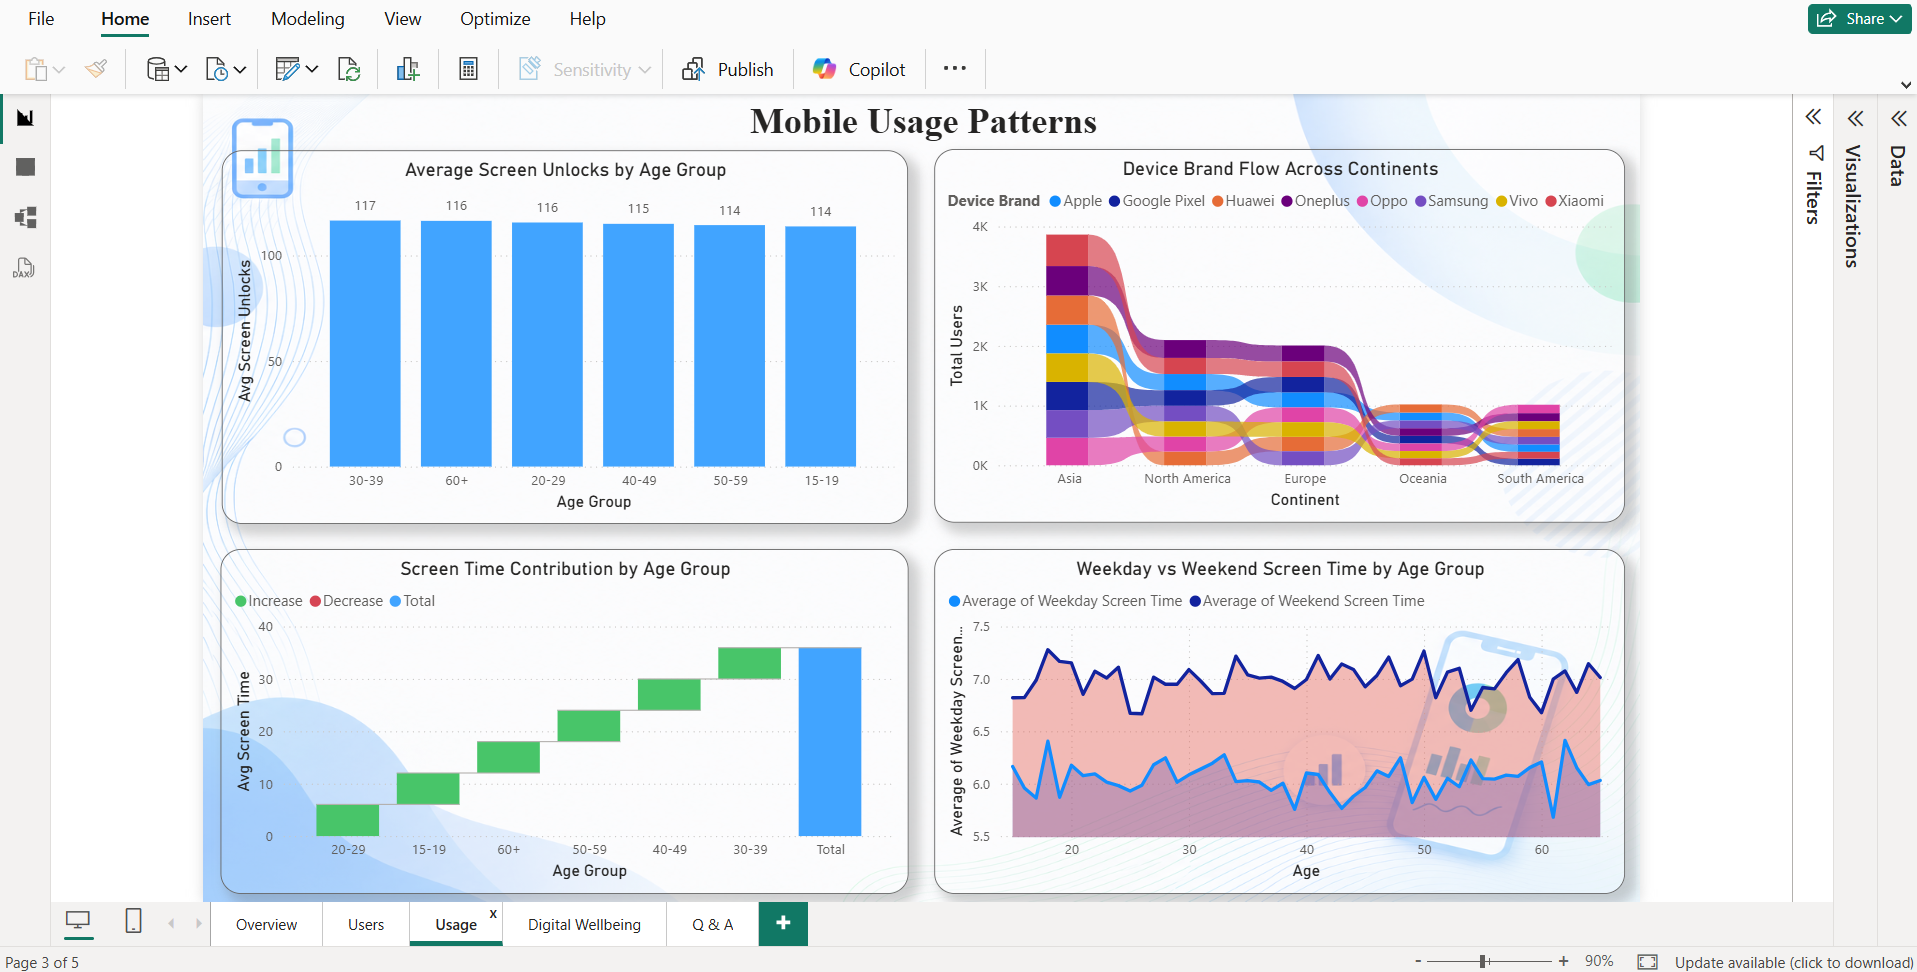

The dashboard page shown, as its layout file describes it:
{"tool":"powerbi","page":{"name":"Usage ","canvas":[1280,720],"ordinal":2},"visuals":[{"type":"clusteredColumnChart","title":"Average Screen Unlocks by Age Group","fields":{"Category":["Mobile_ScreenTime_Dataset.Age Group"],"Y":["Mobile_ScreenTime_Dataset.Avg Screen Unlocks"]},"box":[16.2,50,611.2,332.5],"z":0},{"type":"waterfallChart","title":"Screen Time Contribution by Age Group","fields":{"Category":["Mobile_ScreenTime_Dataset.Age Group"],"Y":["Mobile_ScreenTime_Dataset.Avg Screen Time"]},"box":[15.1,404.7,612.8,307],"z":1000},{"type":"ribbonChart","title":"Device Brand Flow Across Continents","fields":{"Category":["Mobile_ScreenTime_Dataset.Continent"],"Series":["Mobile_ScreenTime_Dataset.Device Brand"],"Y":["Mobile_ScreenTime_Dataset.Total Users"]},"box":[651.5,49.5,615.3,333],"z":2000},{"type":"areaChart","title":"Weekday vs Weekend Screen Time by Age Group","fields":{"Category":["Mobile_ScreenTime_Dataset.Age"],"Y":["Avg(Mobile_ScreenTime_Dataset.Weekday Screen Time)","Avg(Mobile_ScreenTime_Dataset.Weekend Screen Time)"]},"box":[651.2,404.7,615.1,307],"z":3000},{"type":"textbox","box":[16.2,0,1250,50],"z":4000}]}

Visuals, with their boxes on the page's 1280x720 design canvas (x1, y1, x2, y2). These are canvas units, not pixel positions in the 1917x972 screenshot, which may show the page scaled, cropped or inside an application window:
"Average Screen Unlocks by Age Group" clusteredColumnChart: detection(16, 50, 627, 382)
"Screen Time Contribution by Age Group" waterfallChart: detection(15, 405, 628, 712)
"Device Brand Flow Across Continents" ribbonChart: detection(652, 50, 1267, 382)
"Weekday vs Weekend Screen Time by Age Group" areaChart: detection(651, 405, 1266, 712)
textbox: detection(16, 0, 1266, 50)
